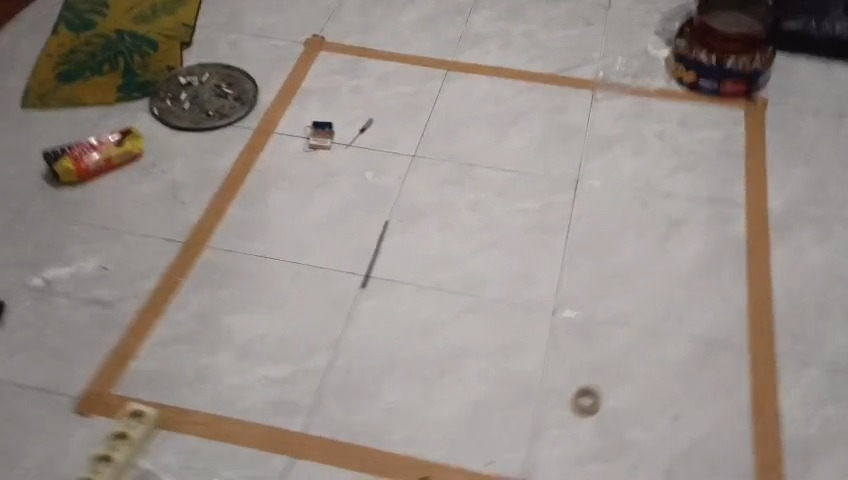floor marking: (77, 35, 783, 479), (156, 404, 489, 479)
